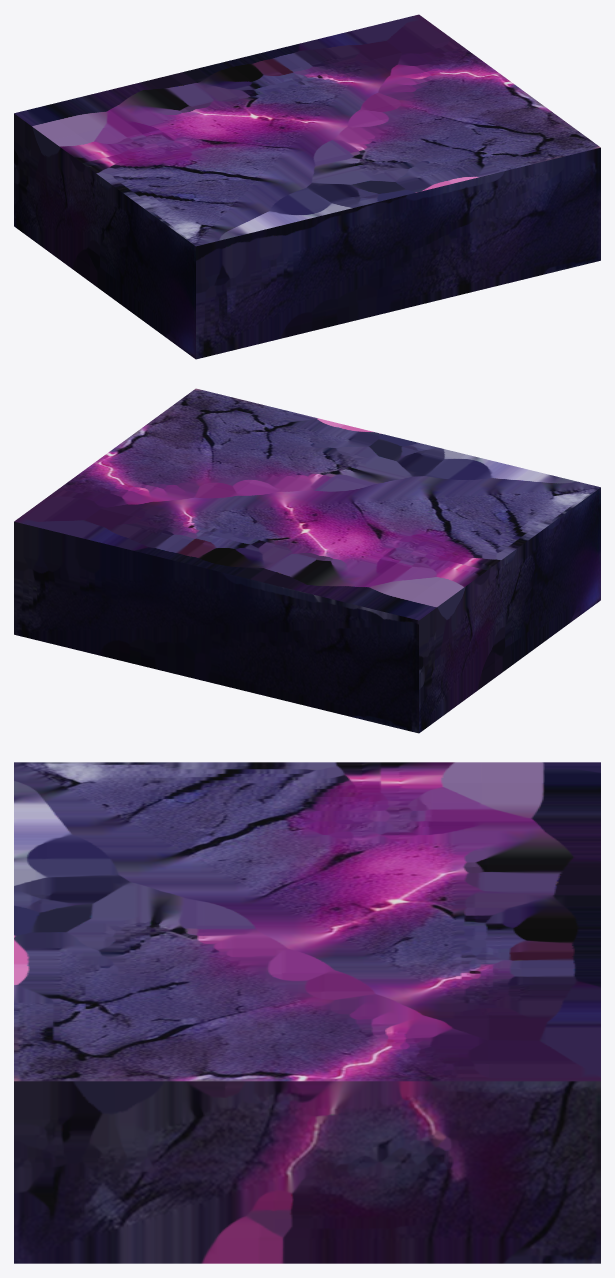
Rendered from shore-stone-7-texture-wrap-2026-05-15T02-27-42-912Z.glb.
3 renders of one model, top to bottom at view 1: azimuth 30°, elevation 25°; view 2: azimuth 150°, elevation 25°; view 3: azimuth 270°, elevation 25°, orthographic. The views are drawn at different scales.
Visible parts, largest first — view 1: GLTF; view 2: GLTF; view 3: GLTF.
Boxes of the visible parts, x1=… form: GLTF: x1=14, y1=14, x2=600, y2=359; GLTF: x1=14, y1=388, x2=600, y2=733; GLTF: x1=14, y1=762, x2=600, y2=1263.
Size of the model in its own units: 12.39 by 3.31 by 9.64.
1 material, 1 textured.
